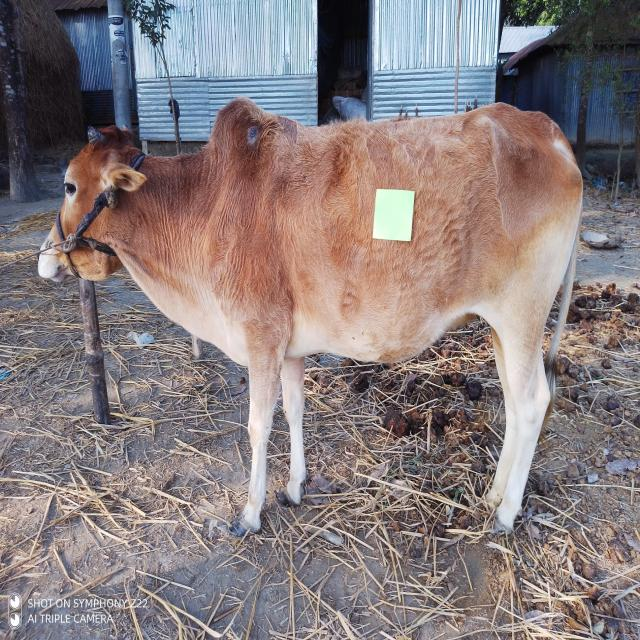badan_sapi: (240, 112, 578, 370)
sapi: (32, 94, 587, 556)
